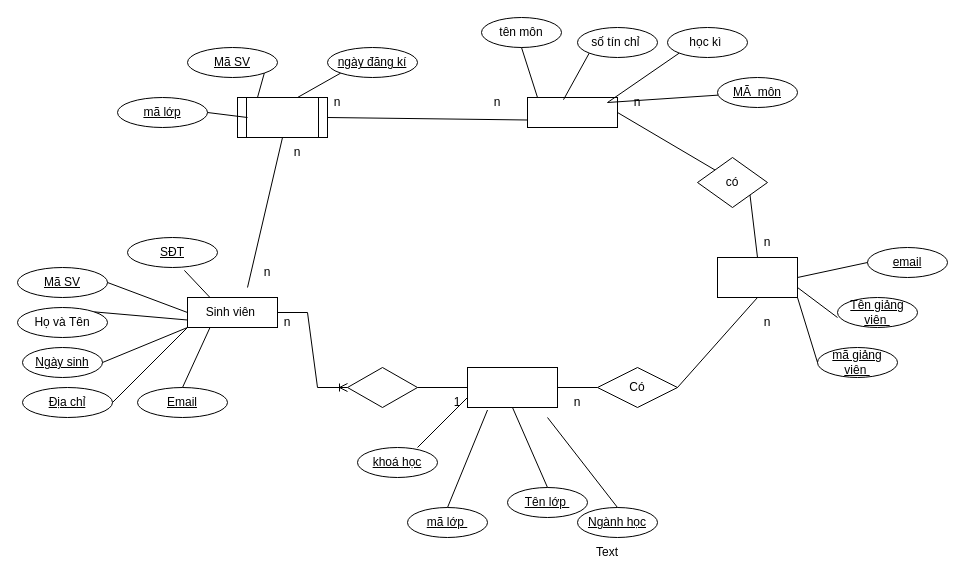
This 965x585 diagram has some shape labels left out. Each missing label, with the centre of its shape:
"Giảng viên" goes at [757,277].
"Lớp học phần" goes at [512,387].
"Môn Học" goes at [572,112].
"Thuộc" goes at [382,387].
"Đăng ký" goes at [282,117].
